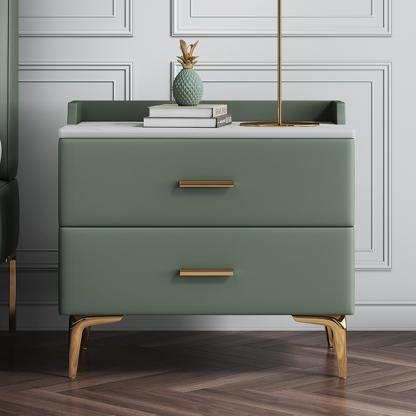Nightstand: (57, 101, 350, 376)
